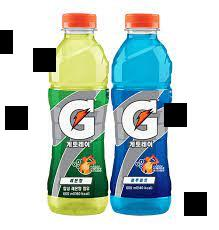gatorade_lemon: (41, 9, 110, 220)
